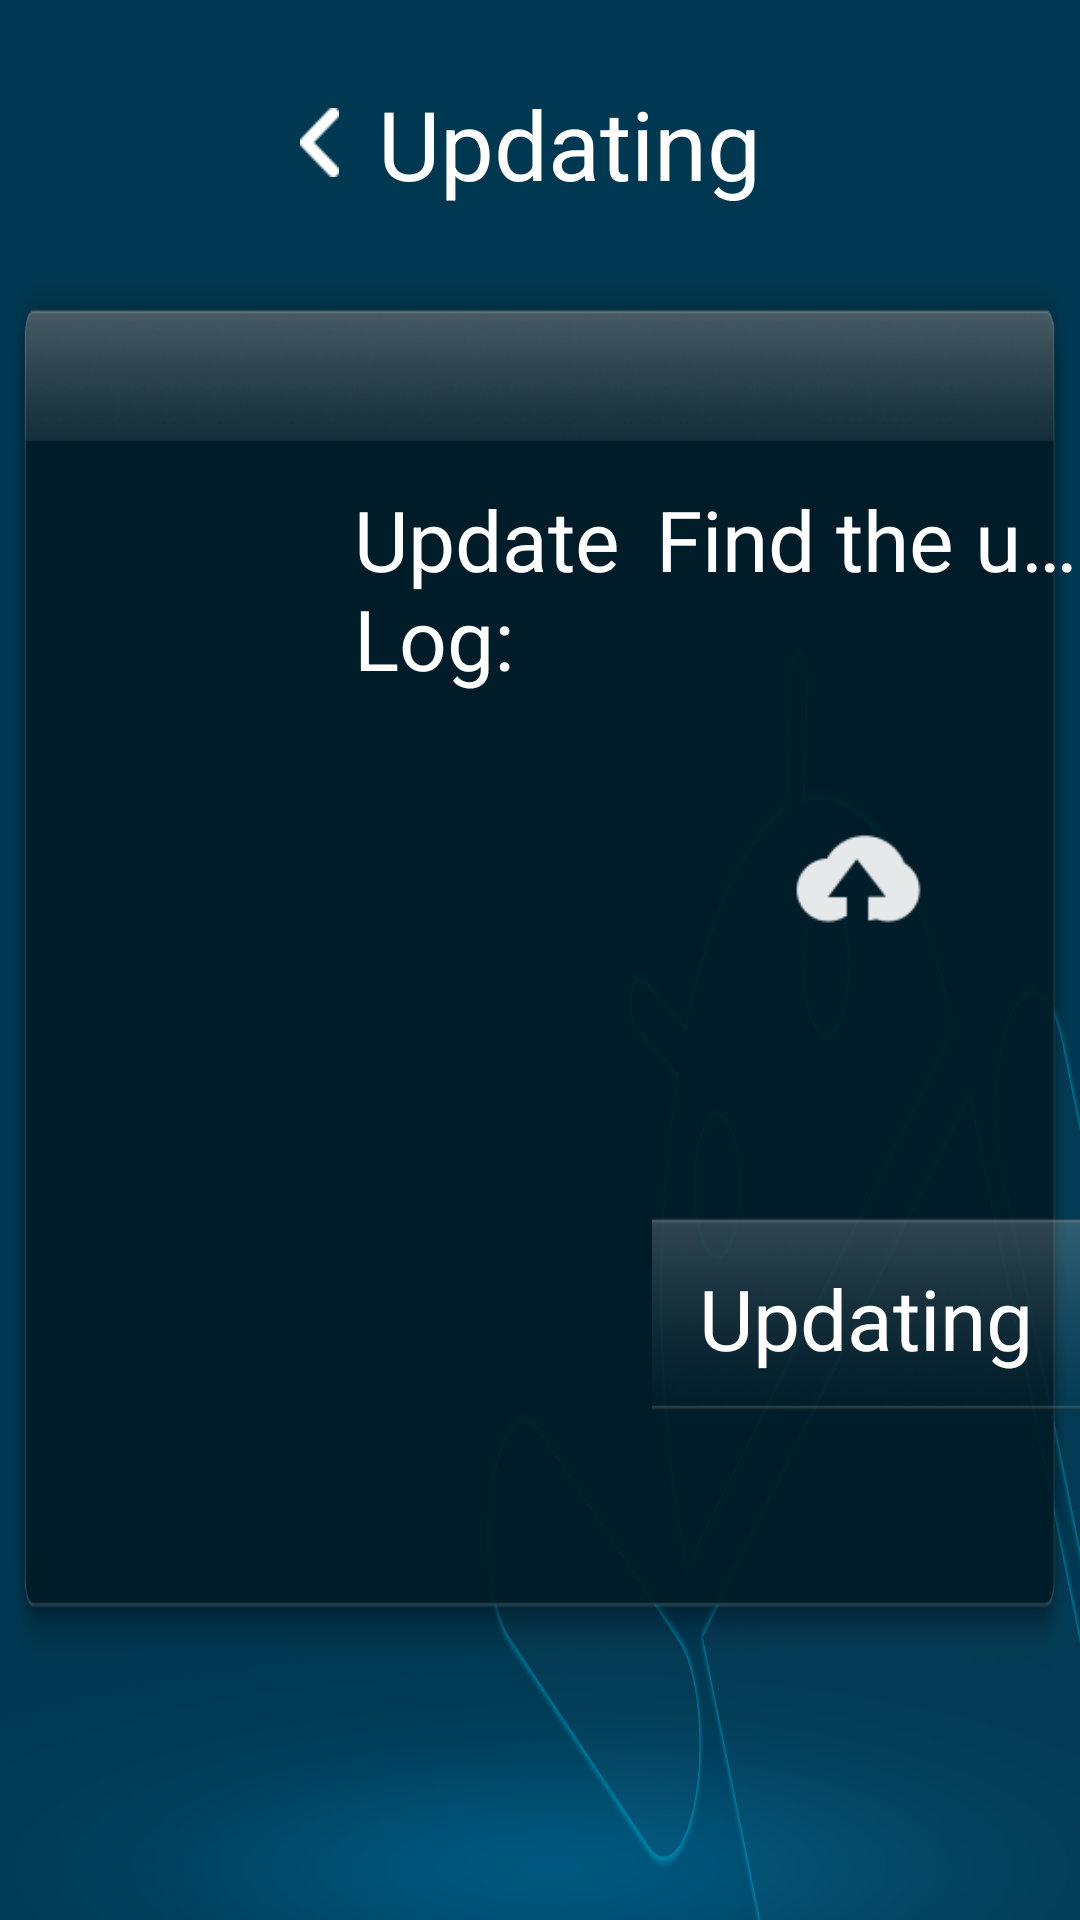

Icons on this 1080*1920 Android screen, each with the point to tap as (x,y):
back: (319,142)
upgrade cloud: (858,879)
